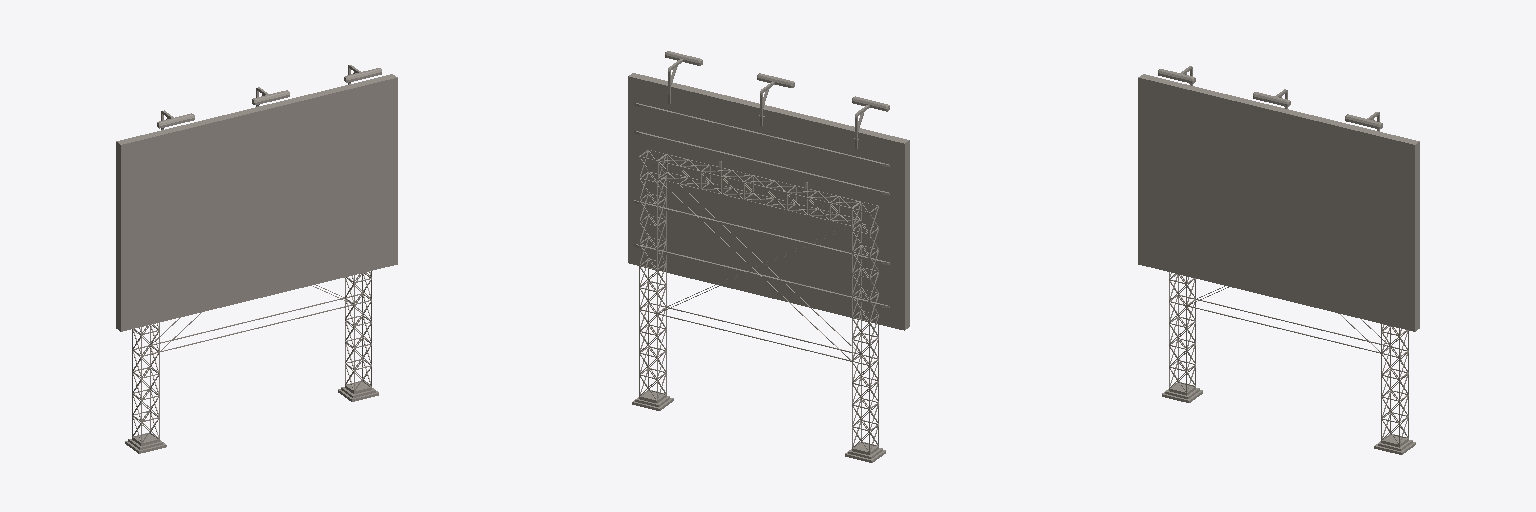
File: billboard.obj
The picture shows the model from 3 angles: view 1: azimuth 30°, elevation 25°; view 2: azimuth 150°, elevation 25°; view 3: azimuth 330°, elevation 25°; orthographic projection.
Parts seen in each view (by area): view 1: Object01; view 2: Object01; view 3: Object01.
Boxes of the visible parts, x1=… form: Object01: x1=116, y1=65, x2=397, y2=453; Object01: x1=628, y1=51, x2=909, y2=462; Object01: x1=1138, y1=66, x2=1419, y2=454.
Bounding box in the file's own units: 6 × 7 × 1.